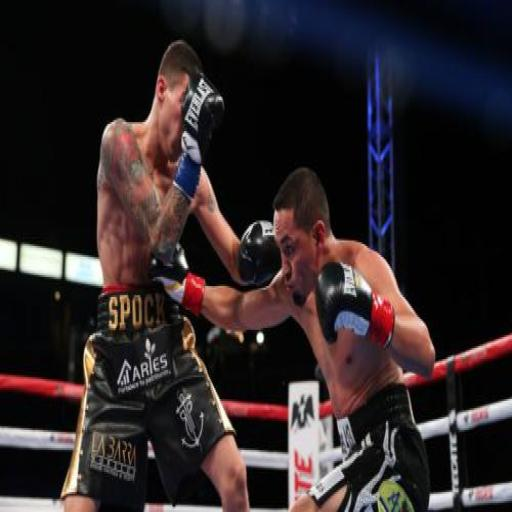boxing: (58, 38, 280, 508), (148, 164, 436, 510)
